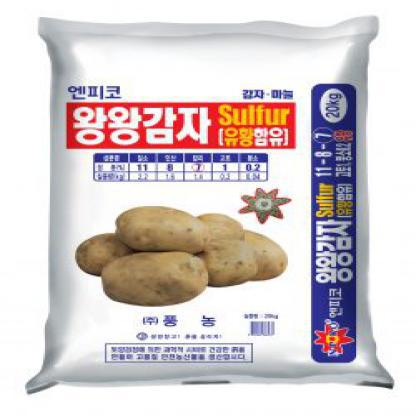potato: (75, 249, 210, 315), (112, 201, 222, 263), (183, 224, 265, 288)
